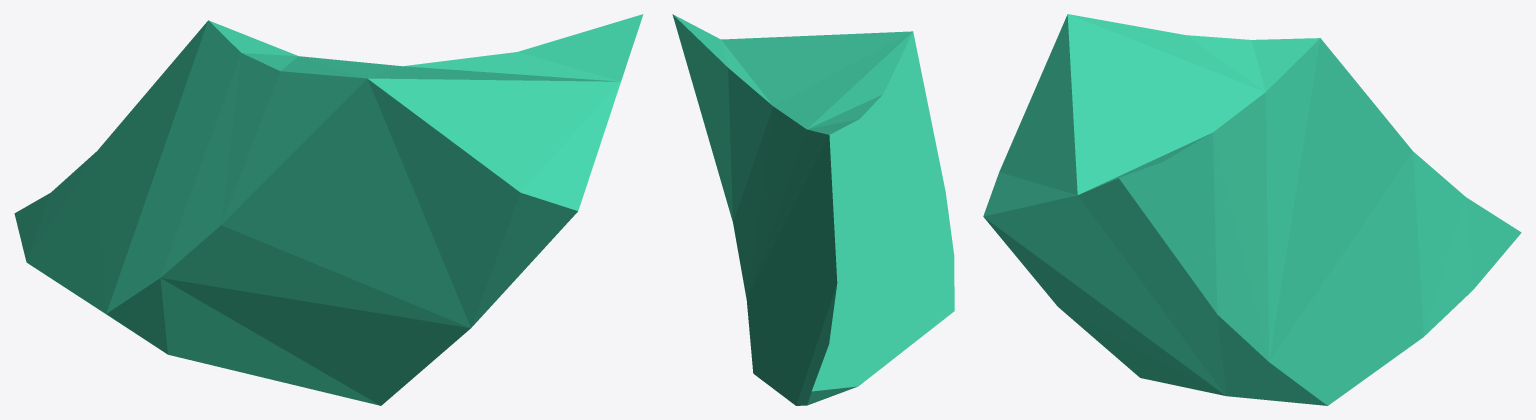
The model's file is debris2.fbx.
3 views of the same model, side by side, from view 1: azimuth 30°, elevation 25°; view 2: azimuth 150°, elevation 25°; view 3: azimuth 270°, elevation 25° (orthographic). The views are drawn at different scales.
Parts seen in each view (by area): view 1: pCube165; view 2: pCube165; view 3: pCube165.
Boxes of the visible parts, x1,y1,x2,y2 form: pCube165: (14, 14, 643, 405); pCube165: (672, 14, 954, 405); pCube165: (983, 14, 1521, 405).
Size of the model in its own units: 0.9953 by 0.795 by 1.09.
